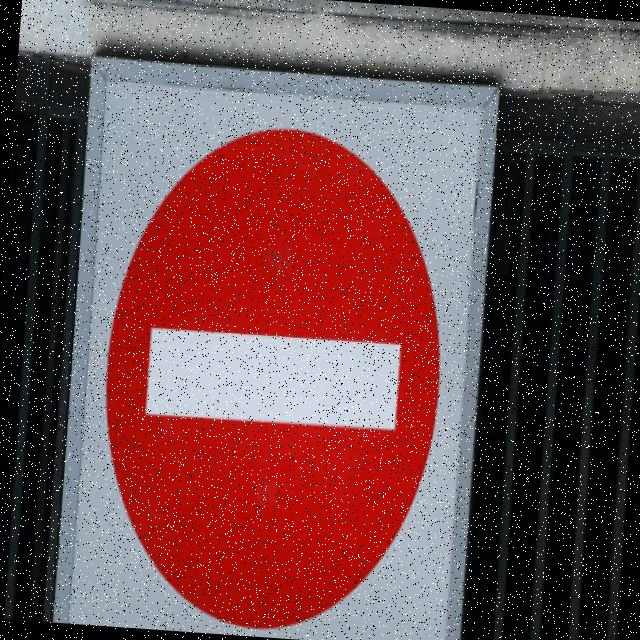do_not_enter: (83, 109, 468, 640)
